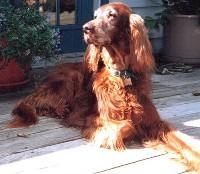Irish_setter: (2, 2, 199, 173)
